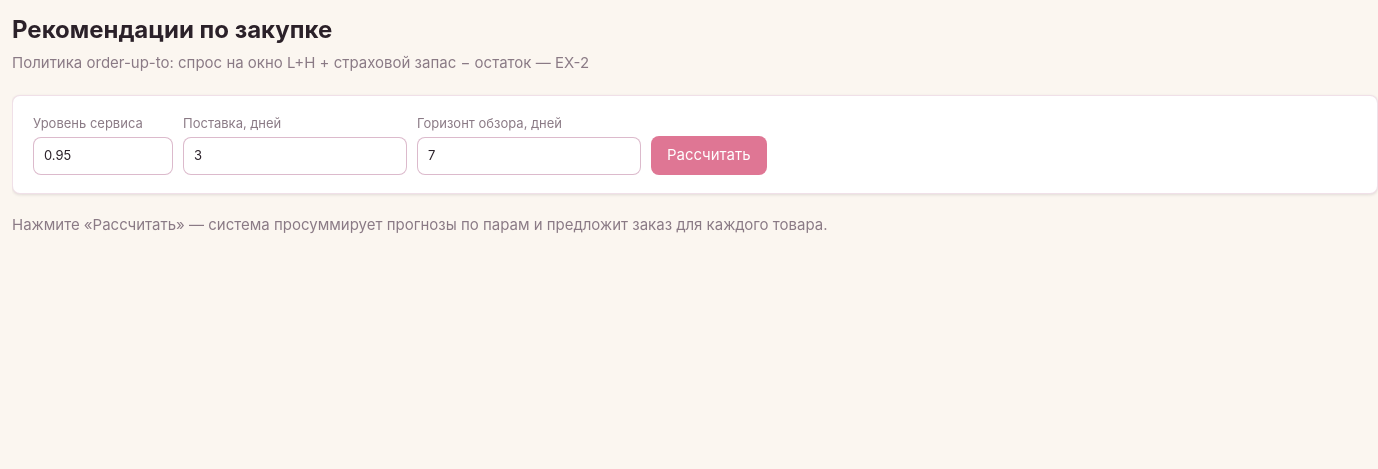
Test: RecommendationsPage › renders status badges and highlights order rows
Click the button "Рассчитать". click: click(709, 155)
box: x1=651 y1=136 x2=766 y2=174
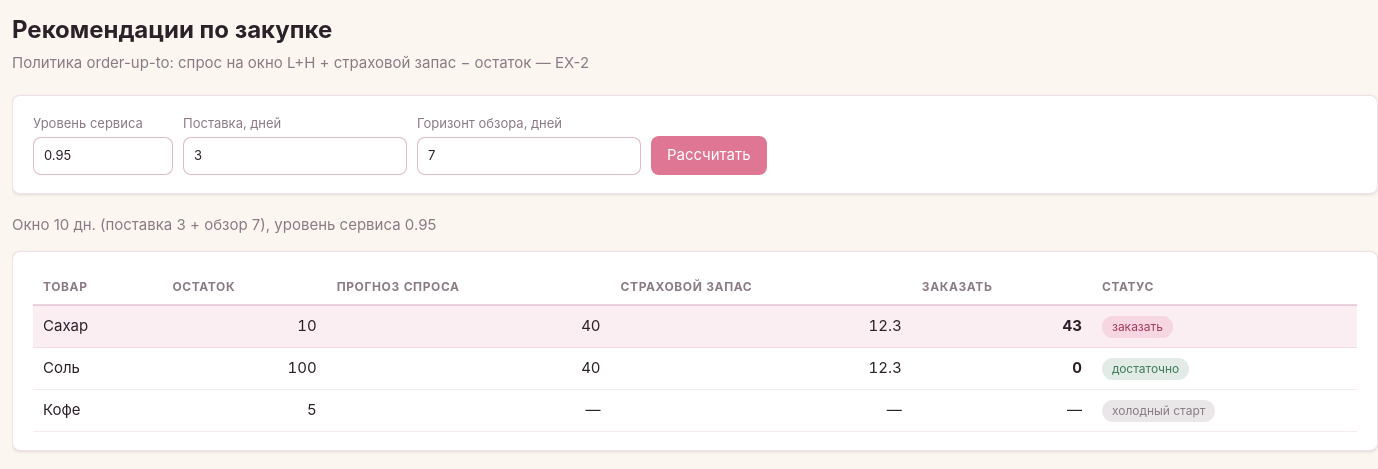
Result: the text "заказать" is shown at x1=1102 y1=316 x2=1173 y2=338
Result: the text "достаточно" is shown at x1=1102 y1=358 x2=1189 y2=380
Result: the text "холодный старт" is shown at x1=1102 y1=400 x2=1215 y2=422
